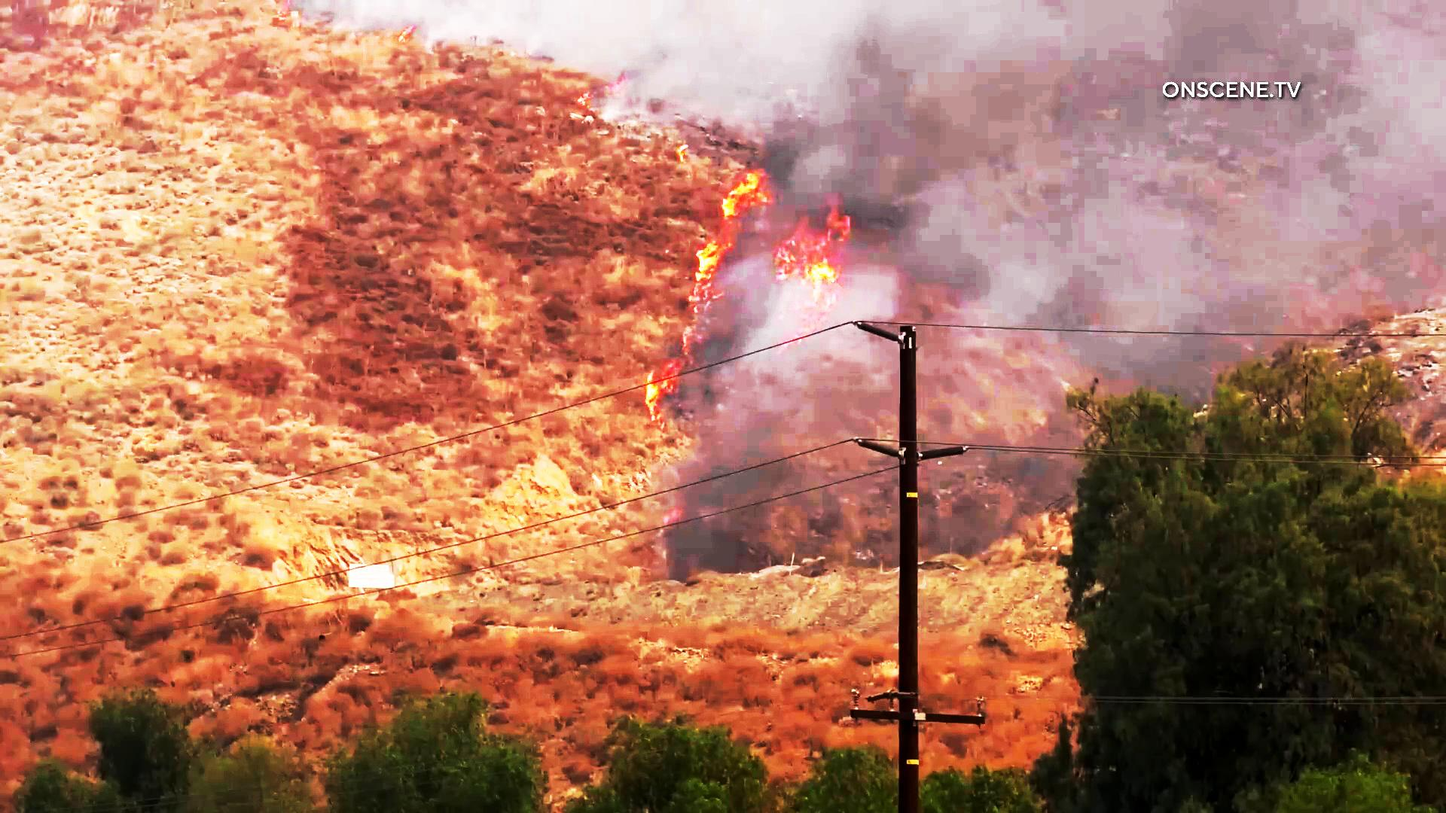fire: (725, 230, 903, 330)
